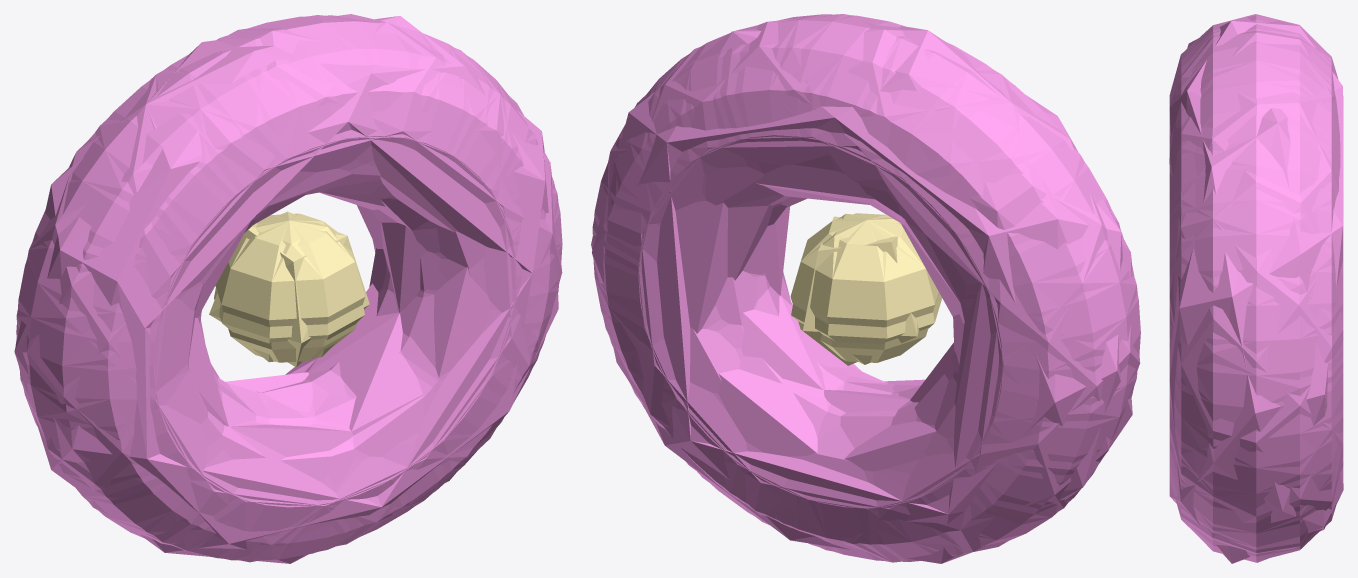
Rendered from SM_Siren.fbx.
The picture shows the model from 3 angles, left to right: view 1: azimuth 30°, elevation 25°; view 2: azimuth 150°, elevation 25°; view 3: azimuth 270°, elevation 25°; orthographic projection. The views are drawn at different scales.
Parts seen in each view (by area): view 1: LOD3_SM_Siren, LOD2_SM_Siren, SM_Siren, LOD1_SM_Siren; view 2: LOD3_SM_Siren, LOD2_SM_Siren, SM_Siren, LOD1_SM_Siren; view 3: SM_Siren, LOD1_SM_Siren, LOD2_SM_Siren, LOD3_SM_Siren.
Part boxes in pixels (box(x1,y1,x2,y2)): LOD3_SM_Siren: box(14, 16, 558, 563); LOD2_SM_Siren: box(15, 14, 562, 562); SM_Siren: box(16, 15, 562, 560); LOD1_SM_Siren: box(16, 15, 562, 560); LOD3_SM_Siren: box(592, 26, 1132, 563); LOD2_SM_Siren: box(591, 14, 1140, 561); SM_Siren: box(593, 14, 1140, 561); LOD1_SM_Siren: box(592, 14, 1140, 562); SM_Siren: box(1169, 15, 1343, 561); LOD1_SM_Siren: box(1169, 16, 1343, 561); LOD2_SM_Siren: box(1169, 15, 1343, 562); LOD3_SM_Siren: box(1169, 14, 1343, 563).
Size of the model in its own units: 0.4187 by 0.3967 by 0.1262.
